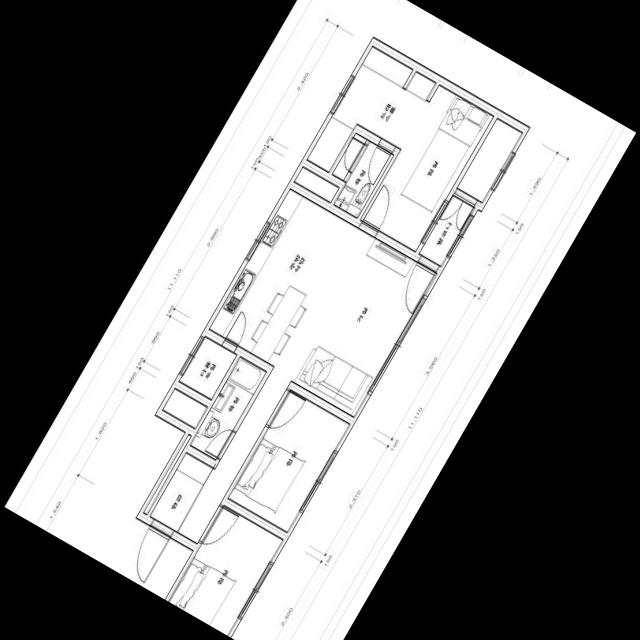background: (4, 0, 636, 640)
space_balconi: (419, 195, 475, 266)
space_bedroom: (361, 85, 494, 251), (228, 390, 350, 532), (168, 506, 283, 636)
space_dressroom: (307, 46, 436, 172)
space_front: (150, 453, 215, 533)
space_kitchen: (209, 189, 355, 366)
space_living_room: (178, 226, 437, 543)
space_multipurpose_space: (179, 336, 237, 399)
space_other: (457, 118, 523, 202), (143, 435, 191, 514), (163, 388, 207, 428), (333, 133, 367, 180), (294, 167, 339, 202)
space_toilet: (190, 357, 266, 460), (334, 142, 393, 218)
